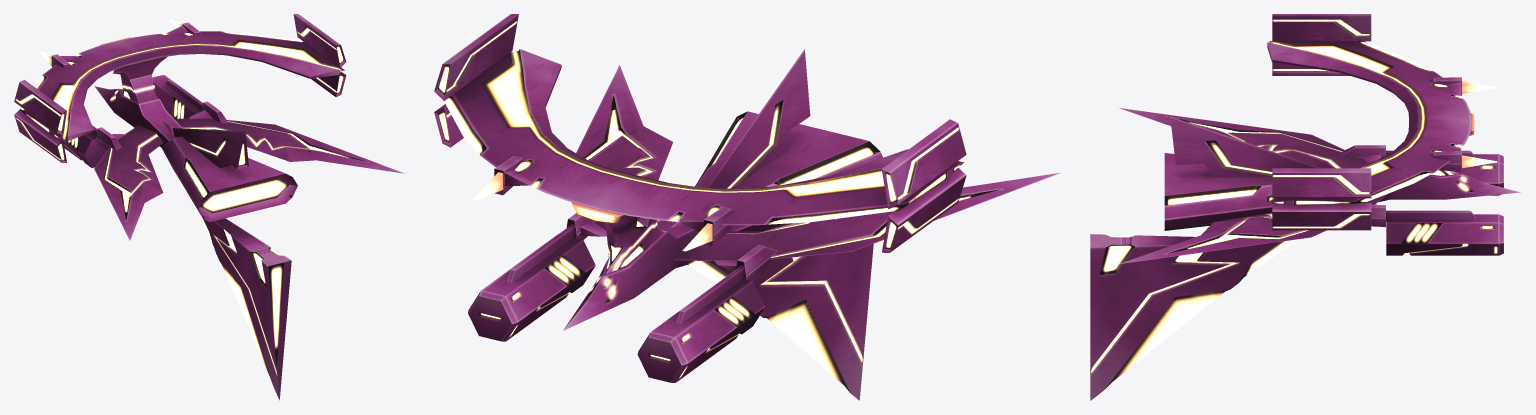
3 views of the same model, side by side, from view 1: azimuth 30°, elevation 25°; view 2: azimuth 150°, elevation 25°; view 3: azimuth 270°, elevation 25° (orthographic). The views are drawn at different scales.
Visible parts, largest first — view 1: body; view 2: body; view 3: body.
Part boxes in pixels (x1,y1,x2,y2): body: [14, 14, 404, 400]; body: [434, 14, 1060, 400]; body: [1090, 14, 1520, 400].
Bounding box in the file's own units: 83.72 × 73.4 × 92.74.
Materials: 1 (1 with a texture image).
